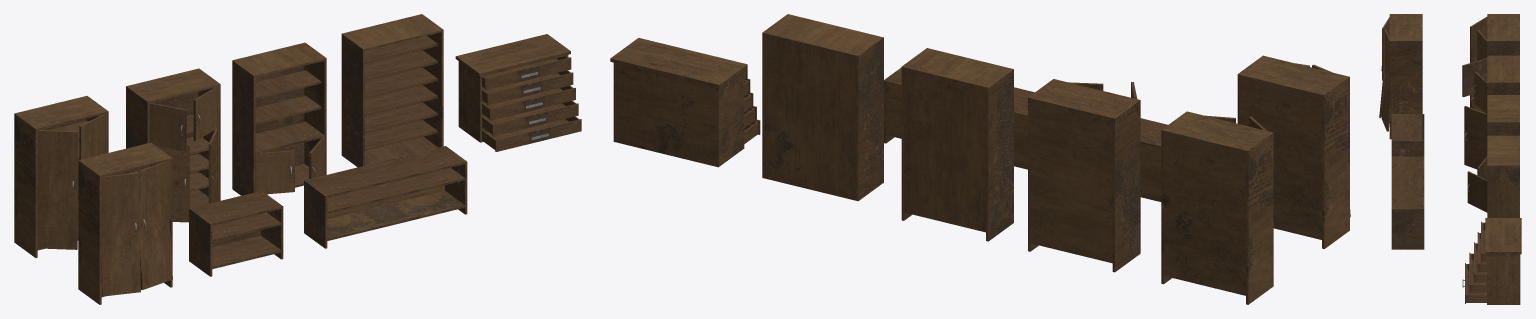
The model's file is old shelves, tv stand and closets.fbx.
The picture shows the model from 3 angles, left to right: view 1: azimuth 30°, elevation 25°; view 2: azimuth 150°, elevation 25°; view 3: azimuth 270°, elevation 25°; orthographic projection. The views are drawn at different scales.
Parts seen in each view (by area): view 1: book shelf, Small closet, closet, Object010, closet004, closet02, closet01, closet003, Left door01, broken door left, broken door right, left door 04 (+6 smaller); view 2: book shelf, closet01, closet02, closet, closet003, Small closet, Object010, closet004; view 3: Small closet, closet003, Object010, book shelf, closet004, closet02, closet, right door 03, closet01, right door 04, left door 02, broken door right (+5 smaller).
Part boxes in pixels (bbox=[...]): book shelf: bbox=[341, 14, 443, 167]; Small closet: bbox=[455, 34, 581, 151]; closet: bbox=[232, 42, 326, 195]; Object010: bbox=[304, 146, 467, 248]; closet004: bbox=[189, 191, 283, 276]; closet02: bbox=[14, 96, 108, 257]; closet01: bbox=[126, 68, 220, 208]; closet003: bbox=[78, 142, 172, 304]; Left door01: bbox=[37, 130, 77, 249]; broken door left: bbox=[101, 172, 140, 296]; broken door right: bbox=[138, 161, 172, 289]; left door 04: bbox=[255, 150, 294, 194]; book shelf: bbox=[762, 14, 883, 201]; closet01: bbox=[1028, 79, 1140, 272]; closet02: bbox=[1161, 111, 1273, 304]; closet: bbox=[901, 48, 1013, 241]; closet003: bbox=[1237, 55, 1349, 248]; Small closet: bbox=[610, 38, 760, 167]; Object010: bbox=[884, 67, 1034, 169]; closet004: bbox=[1140, 118, 1167, 201]; Small closet: bbox=[1462, 218, 1521, 304]; closet003: bbox=[1389, 14, 1422, 139]; Object010: bbox=[1391, 156, 1424, 249]; book shelf: bbox=[1487, 135, 1519, 217]; closet004: bbox=[1391, 114, 1424, 156]; closet02: bbox=[1487, 14, 1519, 55]; closet: bbox=[1487, 95, 1519, 135]; right door 03: bbox=[1464, 106, 1487, 169]; closet01: bbox=[1487, 55, 1519, 94]; right door 04: bbox=[1467, 171, 1487, 212]; left door 02: bbox=[1462, 58, 1487, 96]; broken door right: bbox=[1381, 29, 1389, 131].
Size of the model in its own units: 432 by 99.7 by 131.
1 material, 1 textured.
